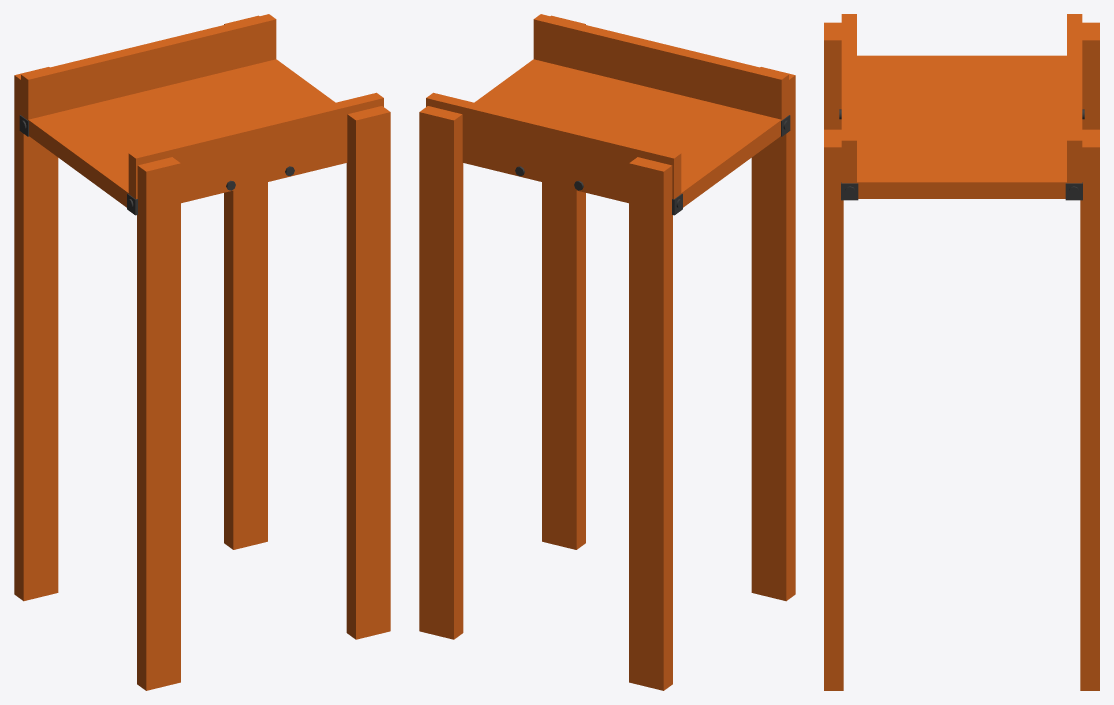
File: itemshooter straight.fbx
The picture shows the model from 3 angles, left to right: view 1: azimuth 30°, elevation 25°; view 2: azimuth 150°, elevation 25°; view 3: azimuth 270°, elevation 25°; orthographic projection. The views are drawn at different scales.
Parts seen in each view (by area): view 1: stand2, body, stand1; view 2: stand2, body, stand1; view 3: body, stand1, stand2.
Boxes of the visible parts, <box> form: stand2: <box>14,67,180,690</box>; body: <box>19,14,383,215</box>; stand1: <box>224,15,390,639</box>; stand2: <box>629,67,795,690</box>; body: <box>426,14,790,215</box>; stand1: <box>419,15,585,639</box>; body: <box>839,14,1084,200</box>; stand1: <box>824,129,1099,690</box>; stand2: <box>824,22,1099,129</box>.
Size of the model in its own units: 102 by 203 by 92.04.
